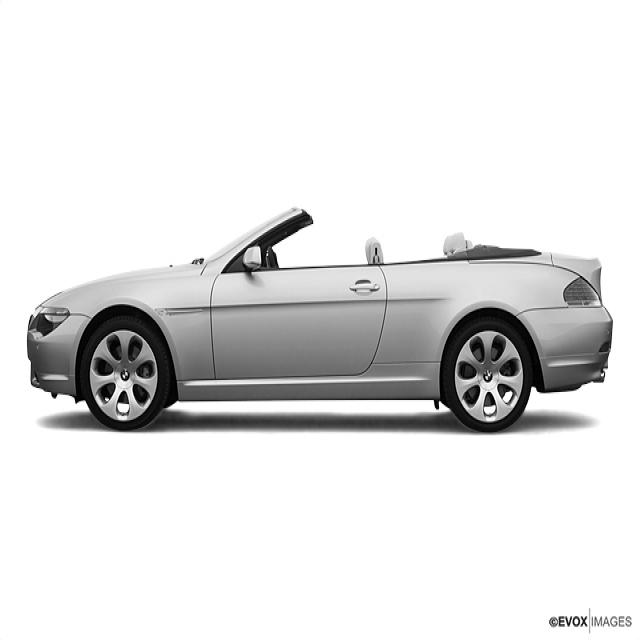car: (26, 205, 613, 434)
